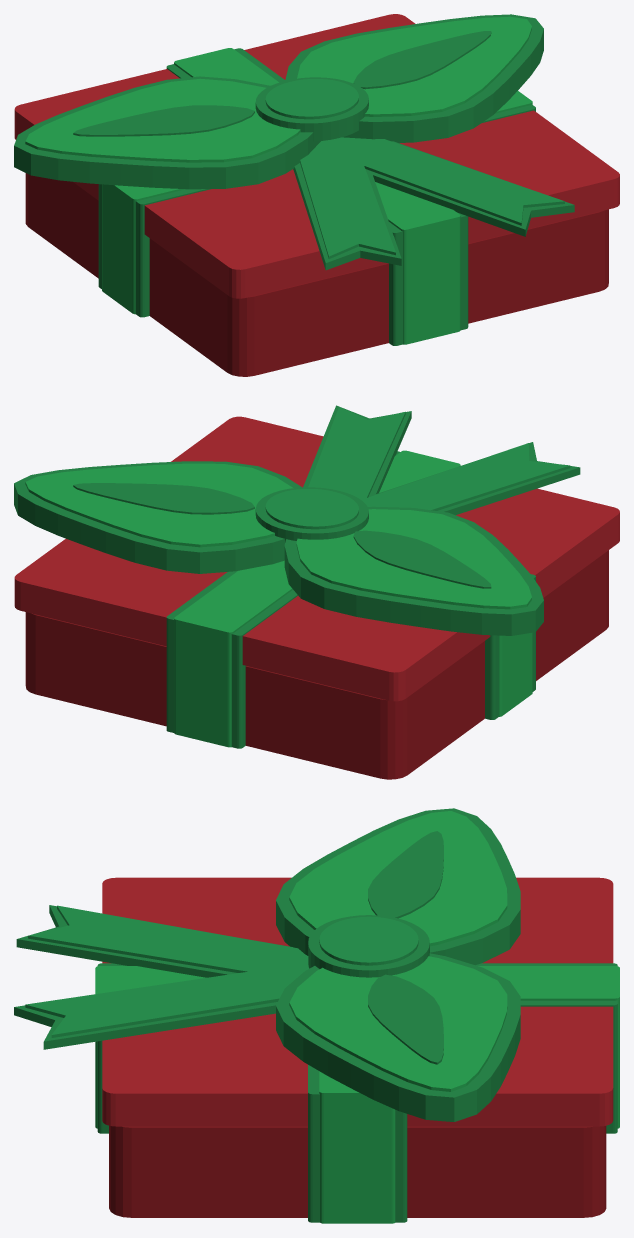
Rendered from book_presente.fbx.
3 renders of one model, top to bottom at view 1: azimuth 30°, elevation 25°; view 2: azimuth 150°, elevation 25°; view 3: azimuth 270°, elevation 25°, orthographic. The views are drawn at different scales.
Parts seen in each view (by area): view 1: book_presente_livro; view 2: book_presente_livro; view 3: book_presente_livro.
Part boxes in pixels (left/top/right/bottom): book_presente_livro: left=14, top=14, right=619, bottom=376; book_presente_livro: left=14, top=405, right=619, bottom=779; book_presente_livro: left=14, top=808, right=619, bottom=1223.
Size of the model in its own units: 3.03 by 0.845 by 2.68.
1 material, 1 textured.
